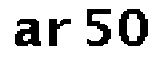0: (117, 7, 151, 49)
5: (82, 5, 115, 49)
a: (12, 19, 42, 49)
r: (48, 15, 74, 50)
